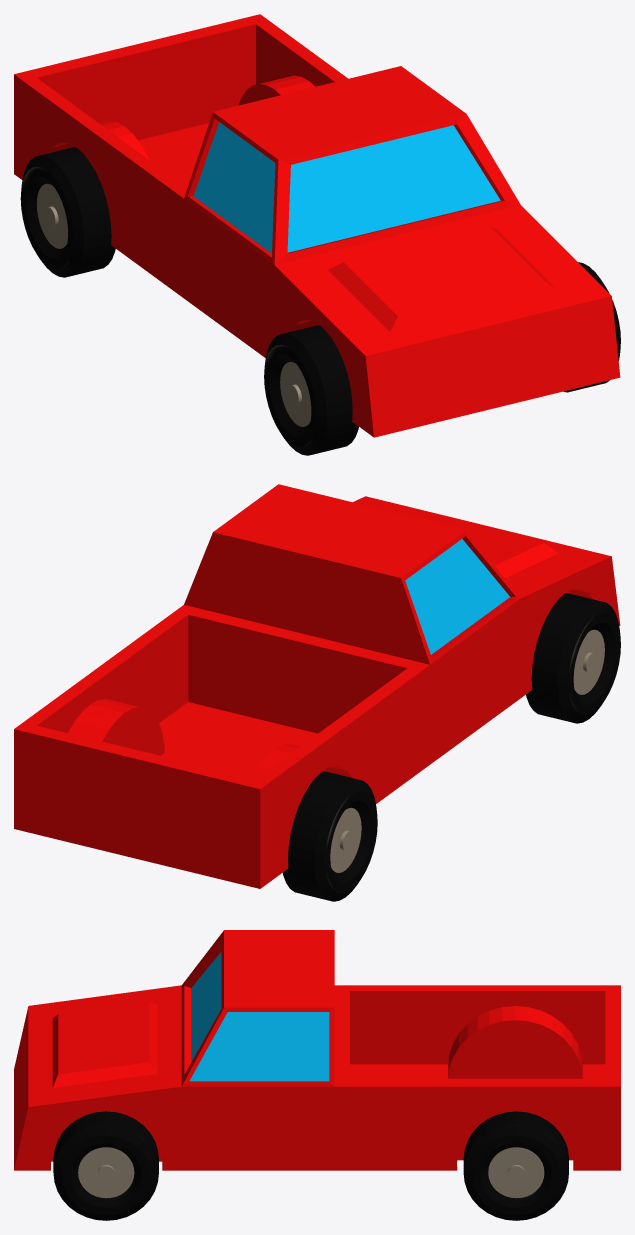
File: Car.fbx
The picture shows the model from 3 angles, top to bottom: view 1: azimuth 30°, elevation 25°; view 2: azimuth 150°, elevation 25°; view 3: azimuth 270°, elevation 25°; orthographic projection. The views are drawn at different scales.
Parts seen in each view (by area): view 1: Front, Cab, Back, Back_Wheels_Right, Front_Wheels_Right; view 2: Back, Cab, Front, Front_Wheels_Right, Back_Wheels_Right; view 3: Back, Cab, Front, Back_Wheels_Left, Front_Wheels_Left.
Boxes of the visible parts, bbox=[...] form: Front: bbox=[274, 205, 620, 437]; Cab: bbox=[184, 66, 520, 358]; Back: bbox=[14, 14, 347, 298]; Back_Wheels_Right: bbox=[20, 147, 115, 277]; Front_Wheels_Right: bbox=[264, 325, 358, 455]; Back: bbox=[14, 605, 430, 888]; Cab: bbox=[184, 484, 520, 764]; Front: bbox=[353, 496, 620, 697]; Front_Wheels_Right: bbox=[526, 593, 620, 723]; Back_Wheels_Right: bbox=[283, 771, 377, 901]; Back: bbox=[334, 985, 620, 1170]; Cab: bbox=[181, 930, 334, 1170]; Front: bbox=[14, 985, 181, 1170]; Back_Wheels_Left: bbox=[463, 1111, 568, 1220]; Front_Wheels_Left: bbox=[53, 1111, 158, 1220].
Bounding box in the file's own units: 638 × 456 × 1308.
